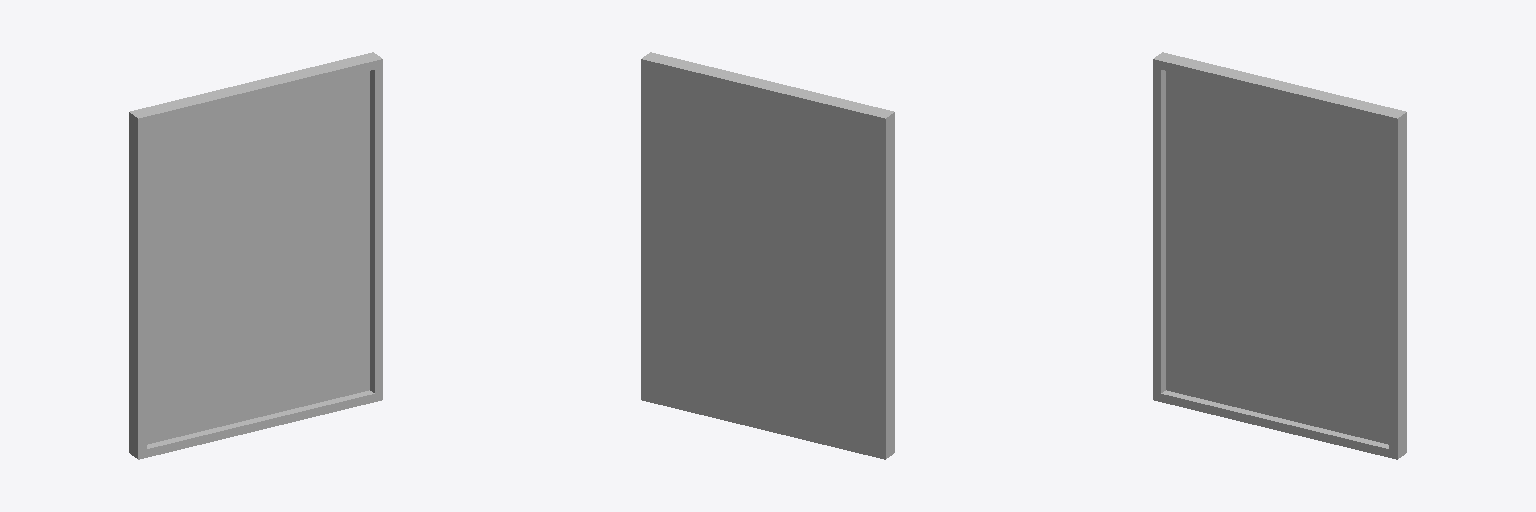
Rendered from JessPlaque.obj.
The picture shows the model from 3 angles: view 1: azimuth 30°, elevation 25°; view 2: azimuth 150°, elevation 25°; view 3: azimuth 330°, elevation 25°; orthographic projection.
Visible parts, largest first — view 1: object 1; view 2: object 1; view 3: object 1.
Part boxes in pixels (x1,y1,x2,y2): object 1: (129, 52, 382, 459); object 1: (641, 52, 894, 459); object 1: (1153, 52, 1406, 459).
Bounding box in the file's own units: 3 × 4 × 0.2.